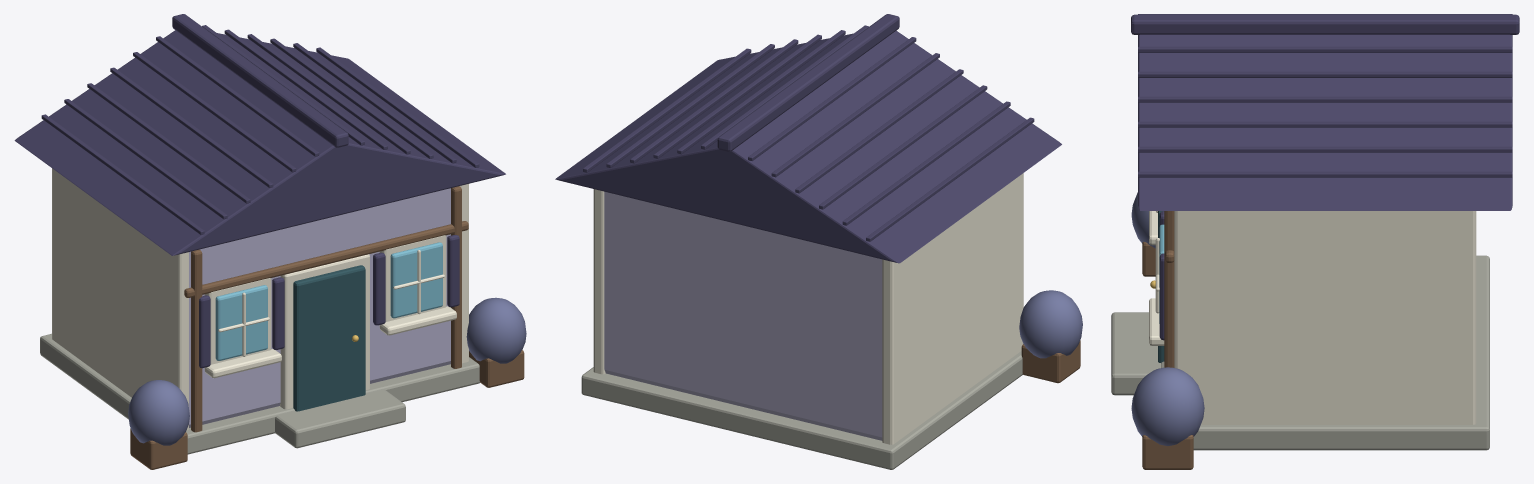
Rendered from house-mystic.glb.
The picture shows the model from 3 angles, left to right: view 1: azimuth 30°, elevation 25°; view 2: azimuth 150°, elevation 25°; view 3: azimuth 270°, elevation 25°; orthographic projection. The views are drawn at different scales.
Parts seen in each view (by area): view 1: Geometry_Roof, Geometry_Trim, Geometry_Wall, Geometry_Foundation, Geometry_Door, Geometry_Wood, Geometry_Plant, Geometry_Glass; view 2: Geometry_Roof, Geometry_Wall, Geometry_Trim, Geometry_Foundation, Geometry_Plant, Geometry_Wood; view 3: Geometry_Roof, Geometry_Trim, Geometry_Foundation, Geometry_Plant, Geometry_Wood.
Part boxes in pixels (bbox=[...]): Geometry_Roof: bbox=[14, 14, 505, 368]; Geometry_Trim: bbox=[52, 168, 468, 430]; Geometry_Wall: bbox=[189, 188, 450, 427]; Geometry_Foundation: bbox=[40, 333, 479, 454]; Geometry_Door: bbox=[293, 265, 365, 411]; Geometry_Wood: bbox=[130, 186, 524, 469]; Geometry_Plant: bbox=[128, 297, 526, 445]; Geometry_Glass: bbox=[215, 242, 442, 360]; Geometry_Roof: bbox=[555, 14, 1061, 263]; Geometry_Wall: bbox=[604, 191, 882, 440]; Geometry_Trim: bbox=[593, 173, 1023, 444]; Geometry_Foundation: bbox=[581, 351, 1022, 469]; Geometry_Plant: bbox=[1019, 290, 1082, 358]; Geometry_Wood: bbox=[1021, 340, 1080, 383]; Geometry_Roof: bbox=[1131, 14, 1519, 340]; Geometry_Trim: bbox=[1149, 211, 1476, 424]; Geometry_Foundation: bbox=[1111, 255, 1489, 450]; Geometry_Plant: bbox=[1131, 192, 1204, 445]; Geometry_Wood: bbox=[1142, 211, 1193, 469].
Bounding box in the file's own units: 5.8 × 4.19 × 4.46.
